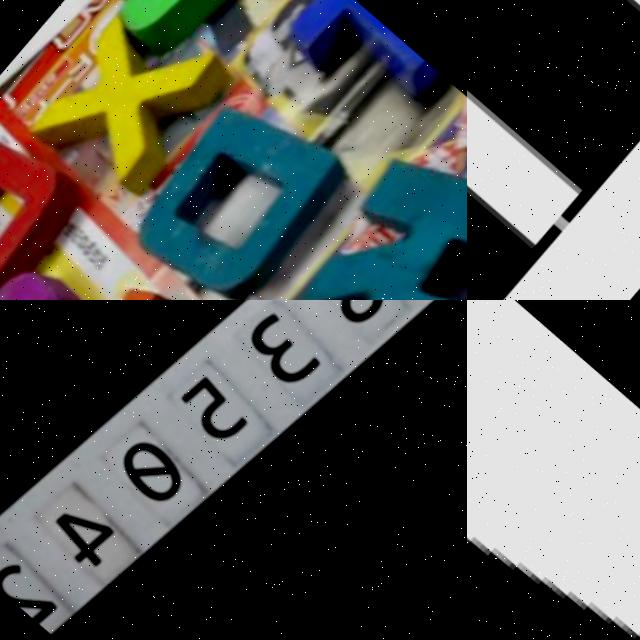0: (95, 404, 218, 524)
2: (0, 532, 85, 631)
3: (223, 300, 350, 401)
4: (33, 474, 149, 588)
5: (162, 345, 275, 456)
8: (292, 300, 415, 338)
C: (77, 0, 264, 51)
D: (121, 73, 355, 300)
H: (467, 0, 640, 300)
I: (23, 243, 281, 300)
K: (280, 91, 467, 300)
O: (0, 110, 79, 300)
T: (467, 300, 640, 640)
X: (22, 0, 228, 203)
